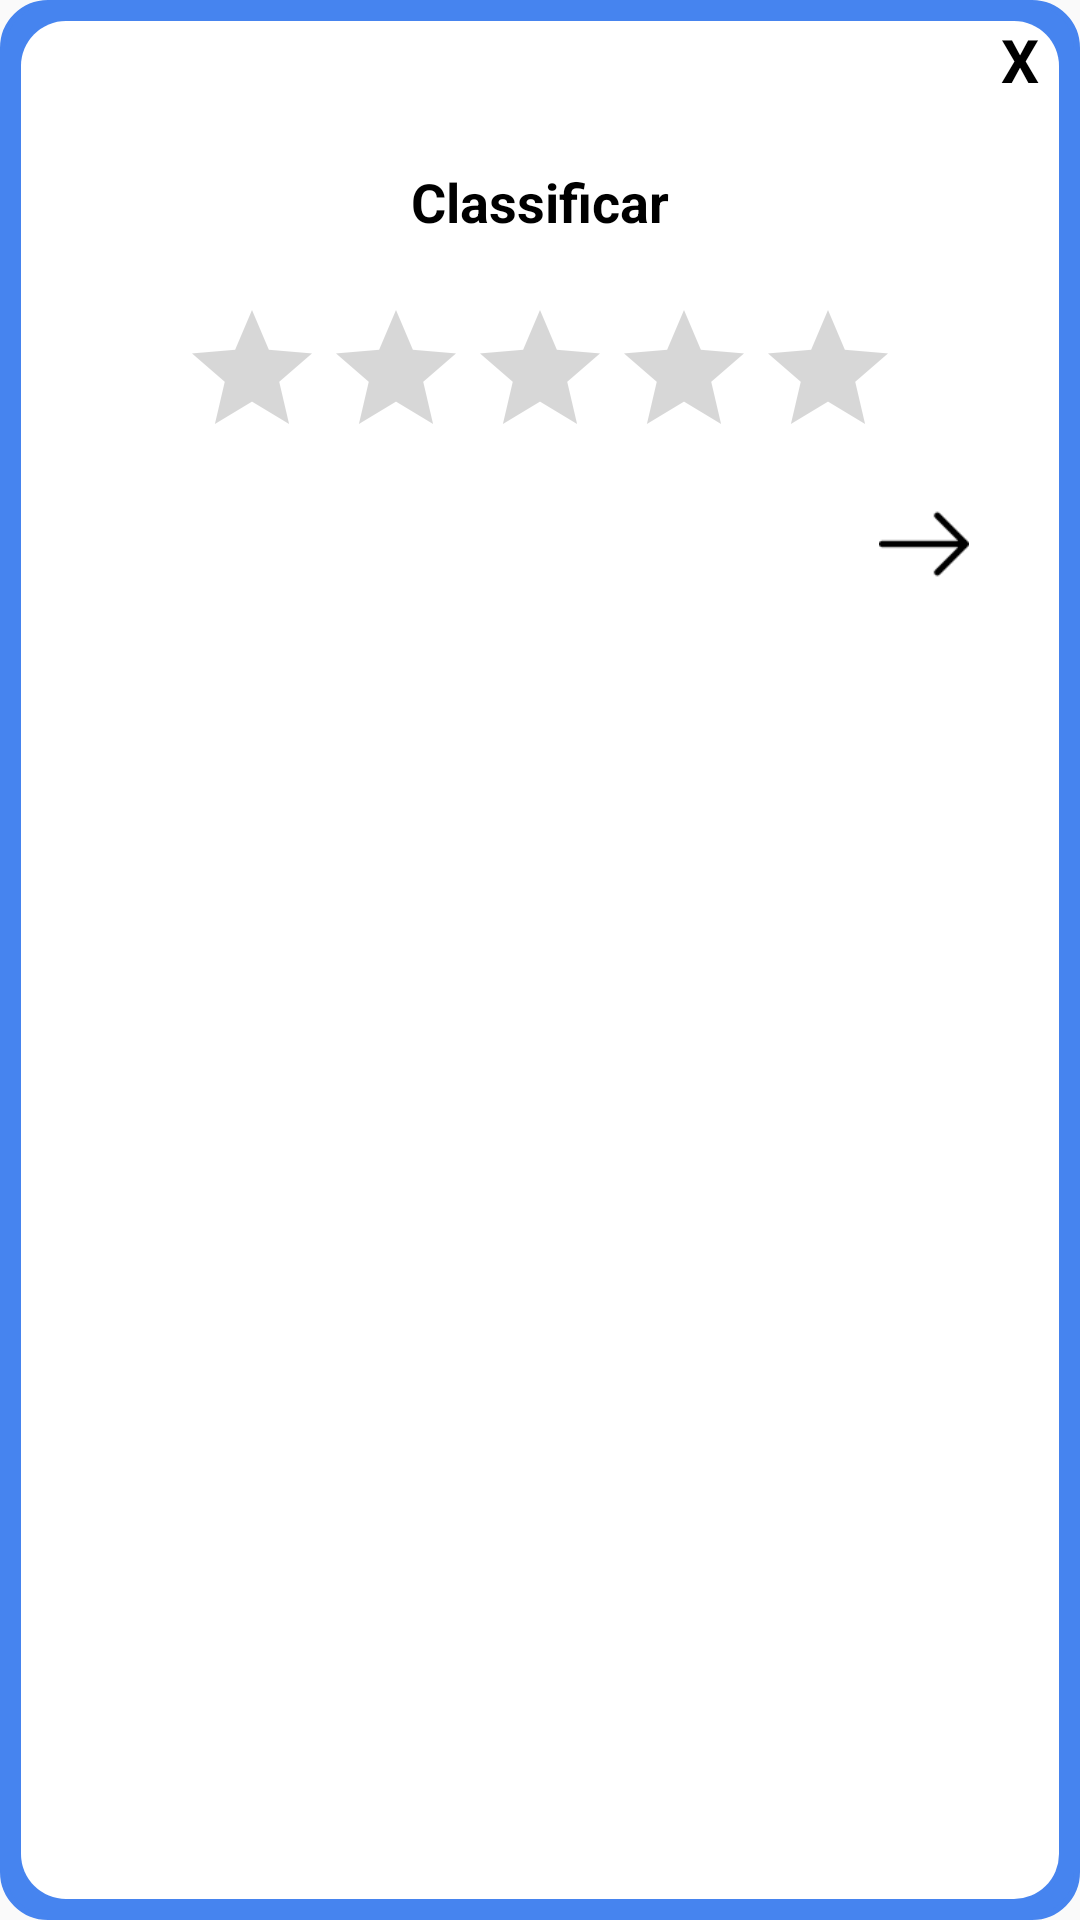

Named icons in this screenshot (1080w x 1920h) and their centers, (x,y):
rightarrow: (924,544)
